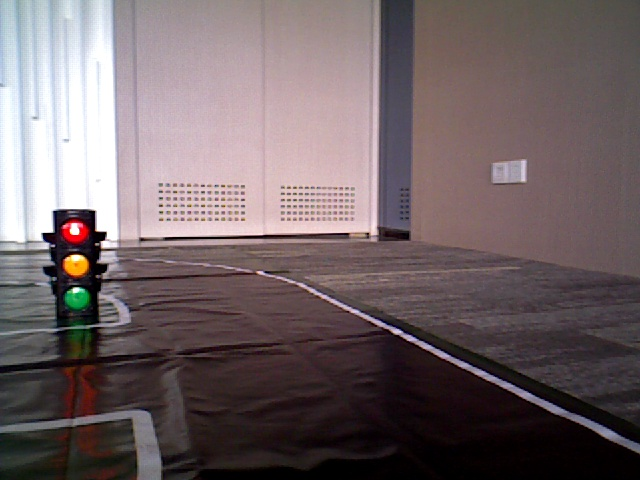red: (57, 216, 96, 313)
